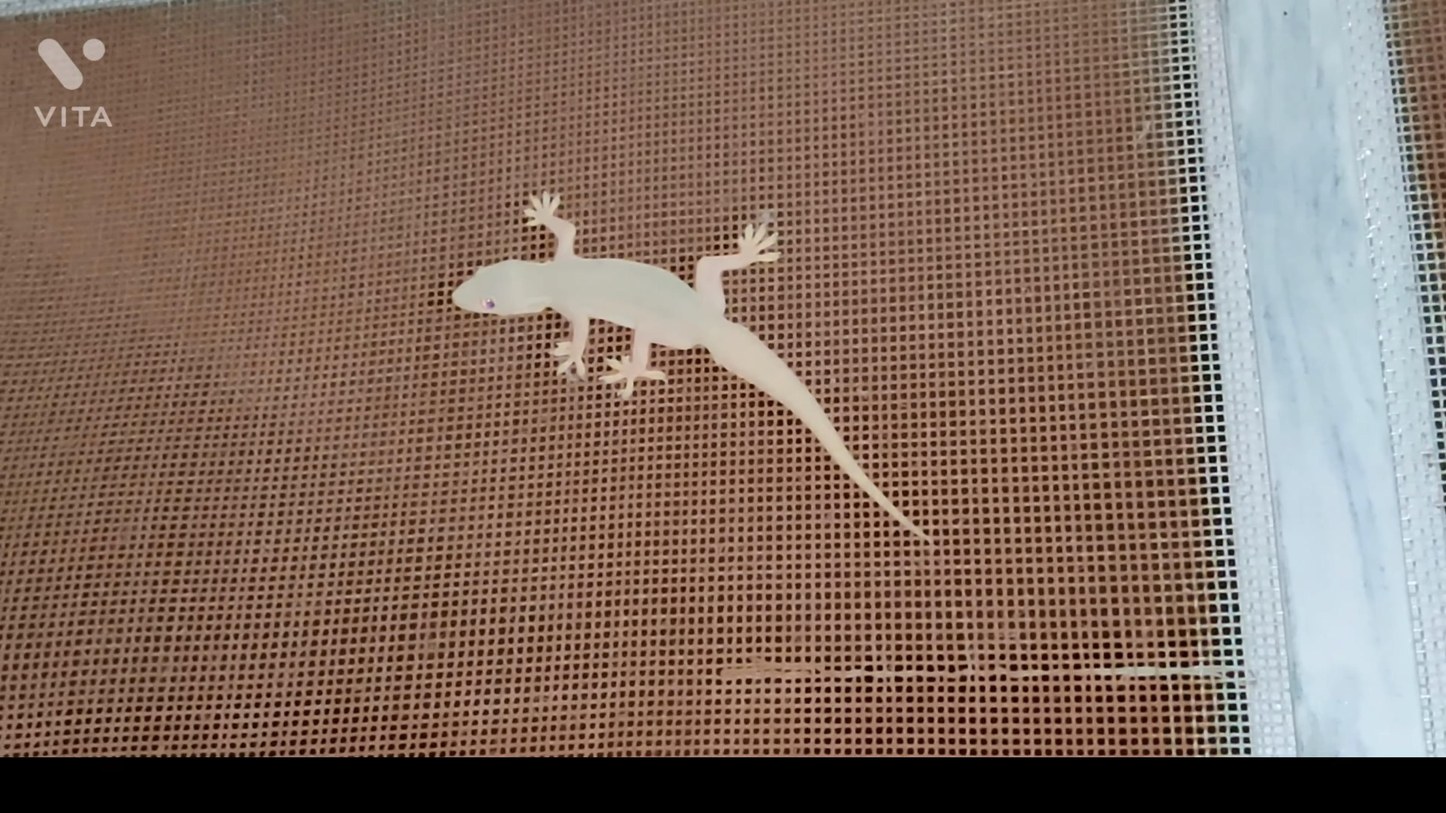lizard: (445, 179, 936, 546)
